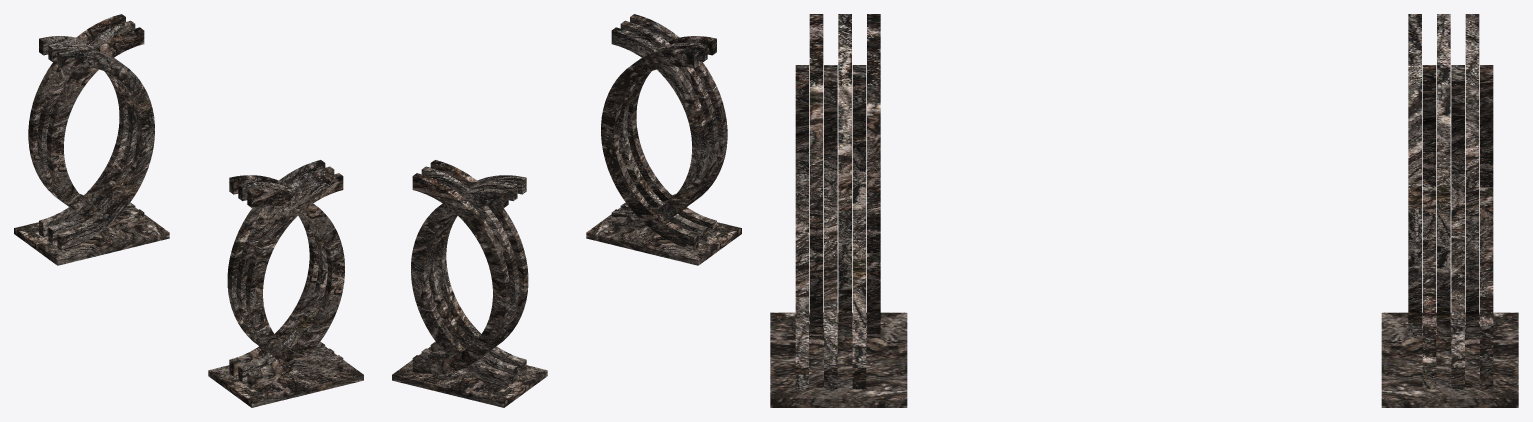
File: SemiCircleBaseX.glb
3 views of the same model, side by side, from view 1: azimuth 30°, elevation 25°; view 2: azimuth 150°, elevation 25°; view 3: azimuth 270°, elevation 25° (orthographic). The views are drawn at different scales.
Visible parts, largest first — view 1: SemiCircleBaseX; view 2: SemiCircleBaseX; view 3: SemiCircleBaseX.
Part boxes in pixels (left/top/right/bottom): SemiCircleBaseX: left=14, top=14, right=363, bottom=407; SemiCircleBaseX: left=392, top=14, right=741, bottom=407; SemiCircleBaseX: left=770, top=14, right=1518, bottom=407.
Bounding box in the file's own units: 0.4 × 0.6872 × 1.47.
1 material, 1 textured.
